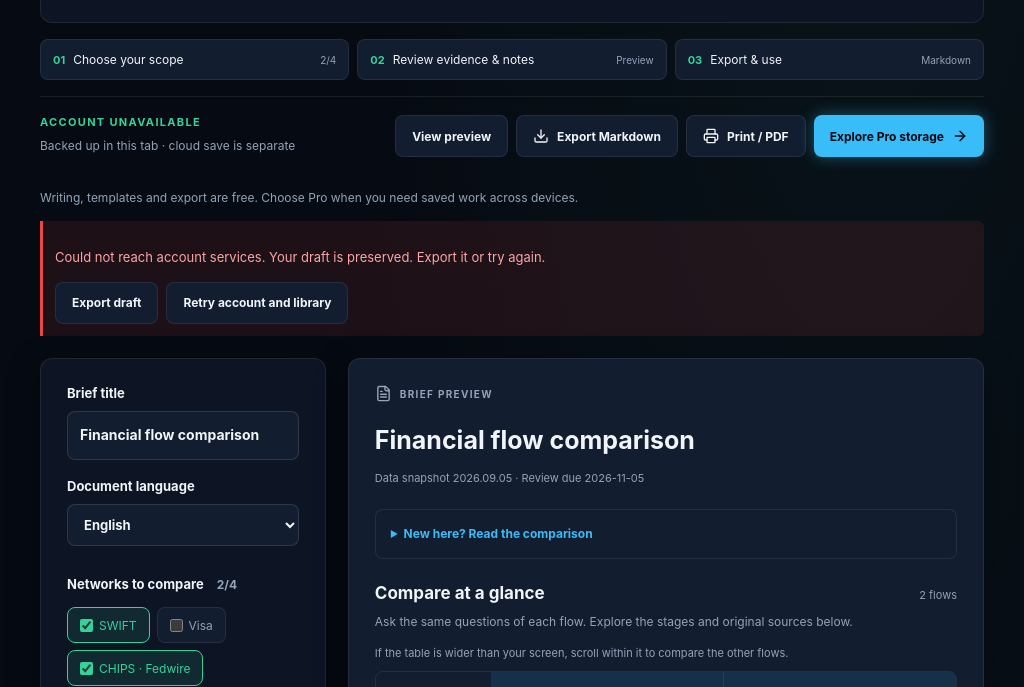
account onboarding and repeat-work UX › distinguishes loading and failed library requests from an empty account, then recovers
This screenshot has width=1024, height=687.
(page scrolled)
Click the button "Retry account and library": (258, 303) left=166, top=282, right=348, bottom=324
(page scrolled)
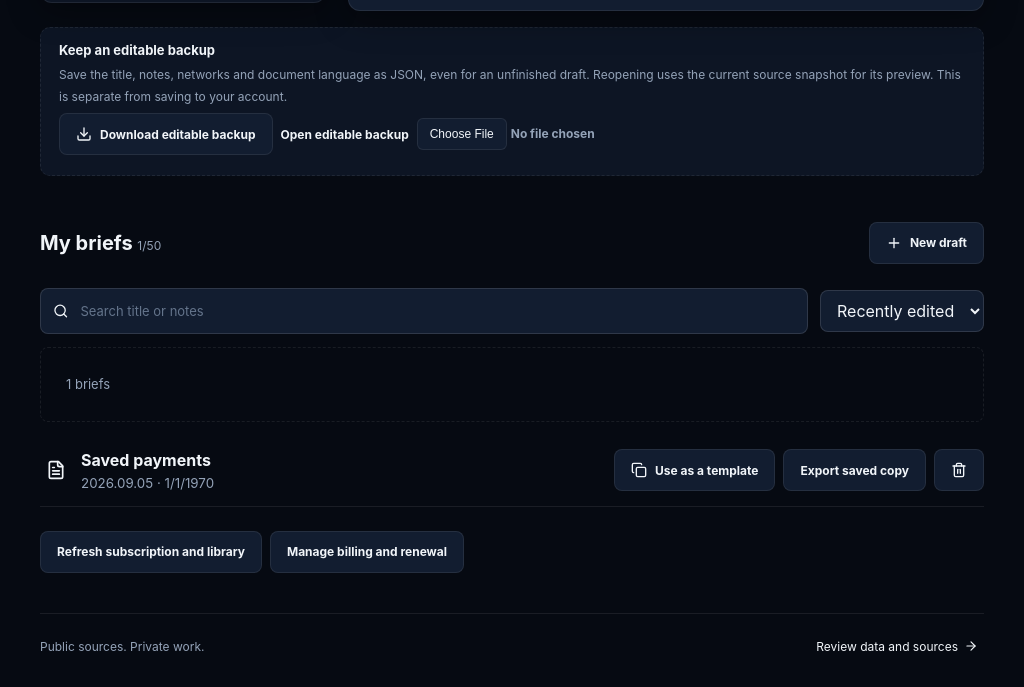
Expected: the button "Saved payments 2026.09.05 · 1/1/1970" is shown, left=40, top=449, right=220, bottom=492
